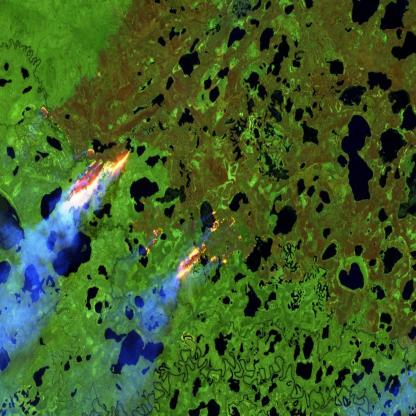fire: (35, 103, 132, 221), (174, 202, 258, 288), (141, 218, 168, 262)
